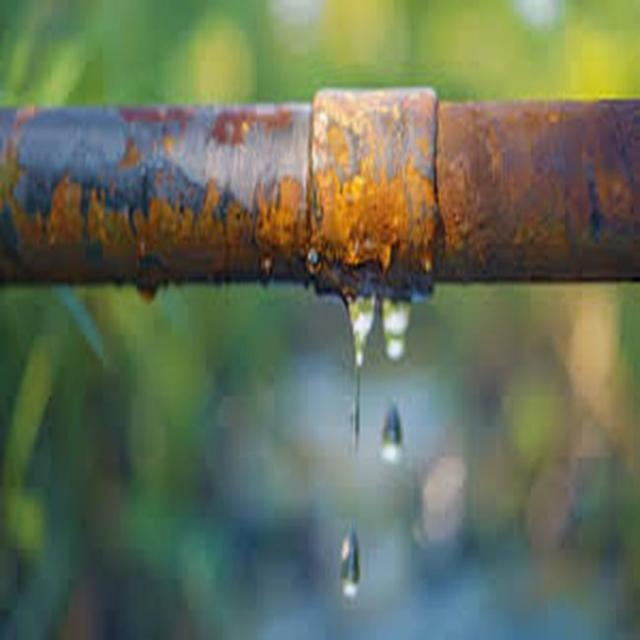water drop: (339, 294, 379, 452), (381, 296, 411, 362), (339, 529, 362, 600), (380, 402, 404, 461)
